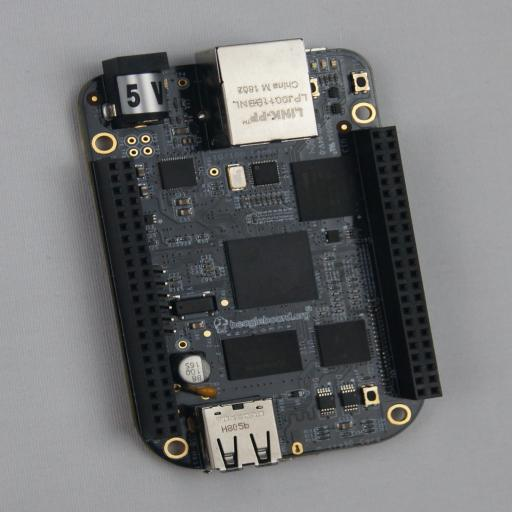Beaglebone Black: (72, 38, 442, 474)
